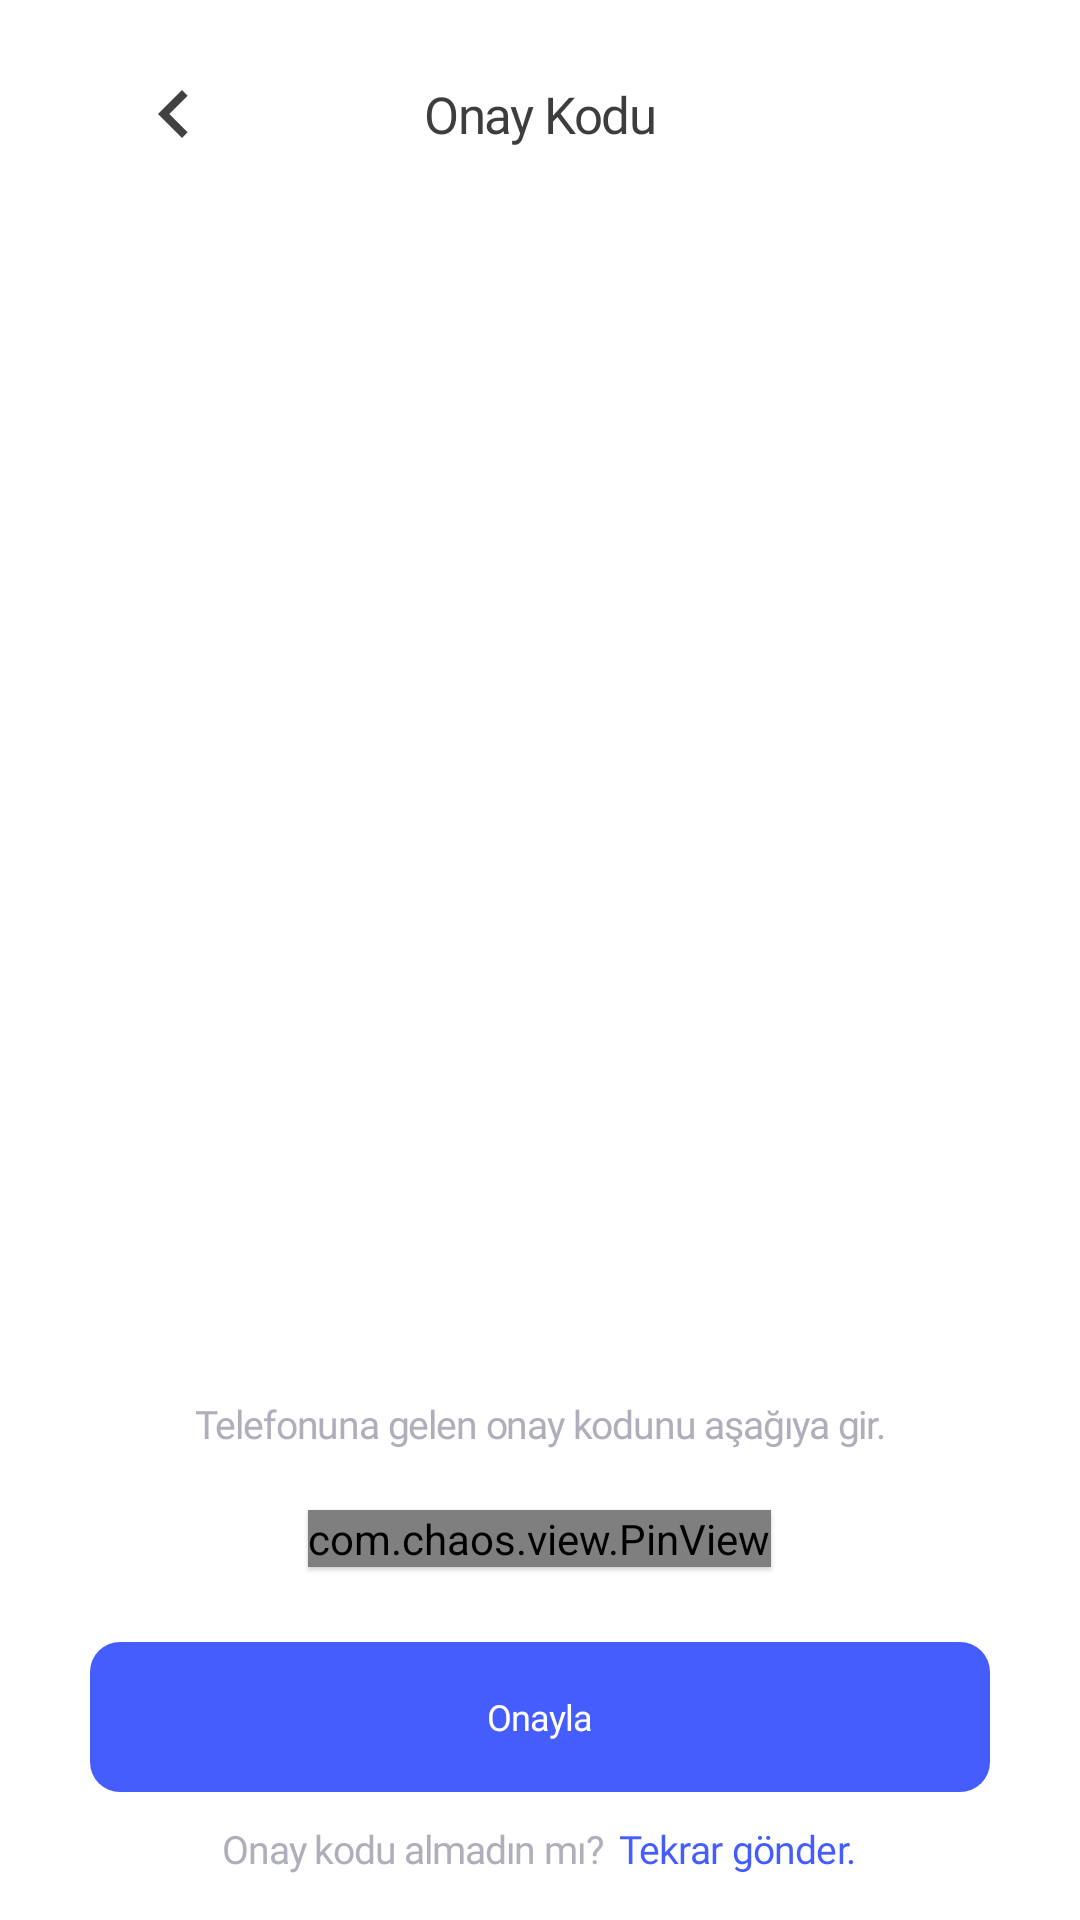

Icon click points for this 1080w x 1920h phone screenshot, format [x,y]:
chevron left: [173,114]
